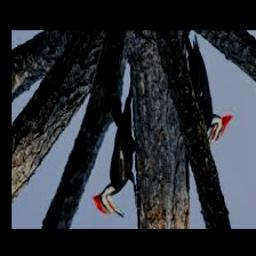Woodpecker: (94, 87, 139, 218), (186, 36, 233, 154)
